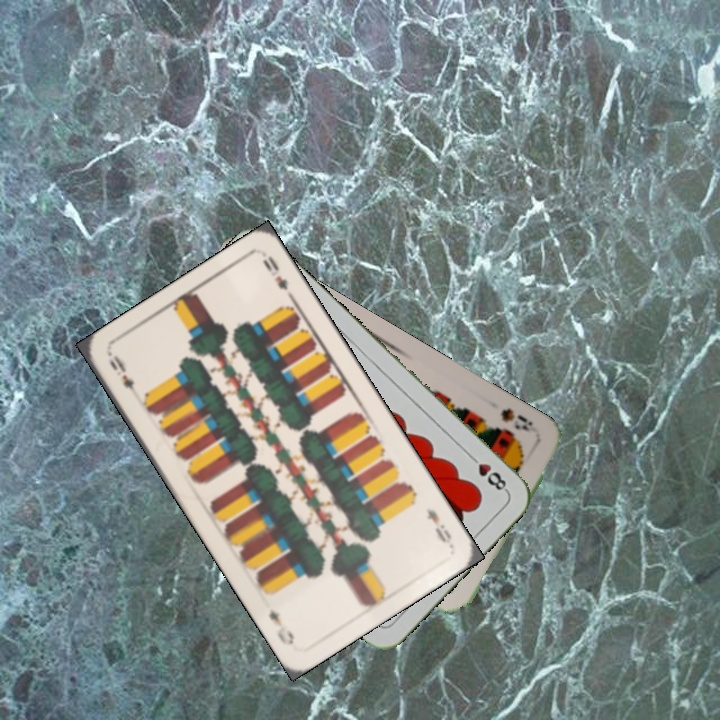E9: (105, 351, 144, 404), (422, 505, 455, 549)
H8: (463, 449, 510, 494)
S8: (497, 403, 539, 437)
